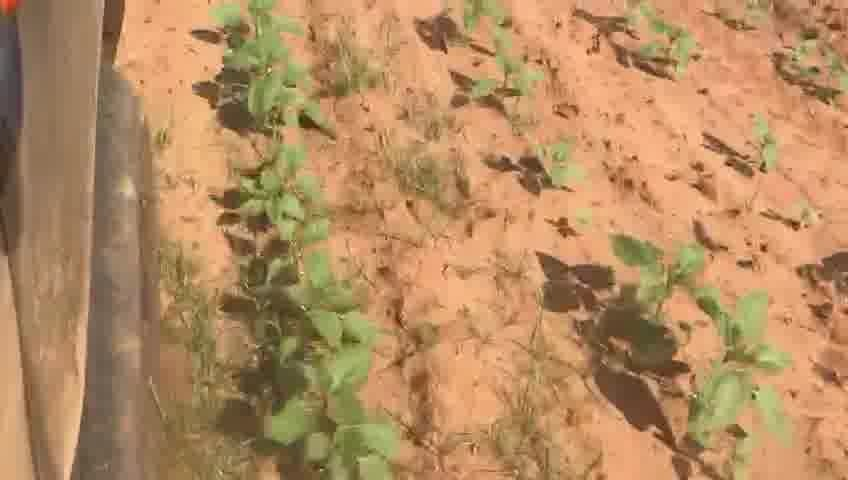sunflower: (684, 291, 801, 461), (255, 260, 381, 386), (216, 10, 334, 138), (270, 384, 406, 475), (605, 232, 718, 340), (237, 138, 327, 253), (465, 35, 550, 107), (636, 10, 709, 76), (523, 126, 579, 192), (748, 110, 788, 177)
